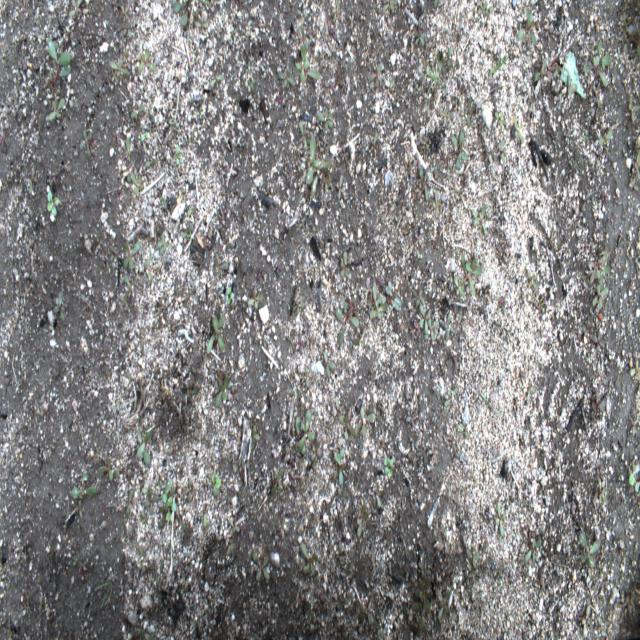weed: (583, 40, 612, 89), (453, 252, 483, 298), (288, 408, 317, 454), (48, 36, 72, 91), (558, 53, 587, 98), (336, 296, 360, 346), (421, 54, 447, 100), (294, 45, 320, 84), (515, 2, 537, 46), (309, 160, 334, 198), (94, 560, 113, 609), (588, 248, 610, 290), (447, 128, 468, 171), (367, 281, 389, 322), (206, 312, 226, 357), (576, 533, 601, 569), (135, 424, 155, 464), (68, 472, 96, 498), (214, 369, 231, 410), (300, 544, 320, 578), (471, 203, 491, 237), (306, 133, 319, 185), (415, 571, 432, 609), (98, 456, 121, 484), (122, 242, 143, 271), (356, 404, 375, 436), (332, 447, 347, 486), (522, 538, 542, 566), (386, 280, 402, 313), (624, 28, 640, 61), (137, 49, 158, 74), (424, 314, 442, 343), (252, 553, 270, 581), (338, 412, 356, 439), (358, 595, 374, 625), (437, 589, 452, 621), (126, 172, 144, 198), (172, 1, 190, 27), (416, 164, 428, 202), (592, 284, 609, 310), (368, 62, 384, 89), (357, 502, 369, 538), (532, 56, 548, 83), (419, 300, 431, 336), (490, 54, 510, 75), (593, 476, 608, 504), (49, 96, 65, 122), (53, 290, 66, 322), (436, 104, 453, 128), (270, 468, 284, 497), (144, 490, 160, 515), (245, 288, 263, 310), (412, 600, 426, 628), (581, 603, 592, 638), (628, 464, 640, 496), (79, 130, 92, 159), (316, 108, 333, 130), (495, 501, 505, 538), (592, 386, 605, 414), (109, 59, 128, 78), (443, 386, 459, 408), (441, 47, 454, 74), (324, 350, 336, 379), (430, 190, 442, 219), (619, 593, 638, 611), (463, 96, 474, 127), (298, 118, 308, 152), (46, 190, 59, 216), (160, 478, 173, 504), (373, 482, 386, 508), (467, 544, 480, 570), (134, 547, 146, 575), (210, 468, 222, 496), (414, 17, 425, 47), (278, 68, 295, 87), (340, 249, 351, 278), (513, 113, 524, 142), (628, 92, 639, 121), (165, 496, 177, 522), (406, 407, 420, 429), (213, 258, 230, 276), (182, 386, 201, 402), (599, 127, 614, 147), (191, 411, 202, 438), (298, 26, 309, 52), (308, 455, 319, 481), (443, 312, 453, 340), (118, 290, 130, 313), (526, 269, 538, 292), (495, 140, 506, 165), (79, 294, 94, 312), (158, 505, 168, 532), (381, 203, 396, 221), (582, 322, 596, 341), (24, 170, 35, 194), (596, 364, 607, 388), (124, 488, 133, 517), (156, 234, 169, 254), (480, 391, 493, 411), (630, 356, 640, 382), (300, 366, 311, 389), (567, 76, 578, 99), (292, 296, 306, 314), (382, 457, 394, 478), (596, 559, 607, 581), (131, 104, 146, 120), (196, 510, 208, 530), (193, 13, 208, 29), (222, 286, 234, 306), (354, 326, 366, 346), (586, 569, 598, 589), (592, 331, 604, 351), (68, 0, 82, 17), (381, 0, 398, 14), (155, 562, 165, 585), (336, 75, 348, 94), (336, 175, 345, 200), (455, 424, 470, 439), (633, 148, 640, 180), (228, 381, 239, 401), (311, 439, 321, 461), (332, 0, 341, 24), (552, 61, 564, 79), (180, 224, 193, 240), (622, 10, 630, 36), (527, 384, 537, 404), (593, 83, 601, 108), (125, 369, 134, 391), (306, 333, 317, 351), (477, 1, 490, 16), (494, 110, 507, 125), (413, 289, 425, 305), (419, 559, 431, 575), (182, 522, 192, 541), (335, 397, 344, 418), (545, 60, 556, 77), (210, 74, 224, 87), (172, 145, 181, 165), (229, 518, 241, 533), (297, 6, 307, 24), (466, 562, 478, 577), (413, 622, 428, 634), (588, 42, 598, 60), (109, 244, 120, 260), (144, 258, 152, 280), (370, 132, 378, 154), (420, 134, 431, 150), (122, 23, 132, 40), (185, 478, 192, 502), (251, 424, 260, 442), (75, 500, 83, 520), (297, 333, 305, 353), (446, 162, 456, 178), (339, 542, 346, 564), (402, 163, 412, 178), (629, 176, 639, 191), (414, 152, 422, 170), (498, 294, 506, 312), (580, 272, 592, 284), (145, 158, 158, 169), (427, 443, 438, 456), (141, 484, 155, 494), (121, 5, 129, 22), (159, 197, 168, 212), (139, 132, 152, 142), (386, 79, 394, 95), (280, 486, 288, 502), (601, 624, 610, 638), (126, 136, 131, 161), (296, 477, 304, 492), (124, 274, 131, 291), (289, 471, 296, 488), (244, 60, 252, 74), (318, 142, 332, 150), (414, 232, 422, 246), (412, 321, 419, 337), (377, 438, 385, 452), (544, 26, 554, 37), (536, 302, 543, 316), (112, 0, 120, 12), (296, 156, 302, 172), (188, 205, 195, 218), (123, 48, 128, 64), (405, 266, 411, 279), (582, 130, 588, 142), (433, 0, 439, 10), (245, 460, 250, 470), (417, 253, 422, 258)
